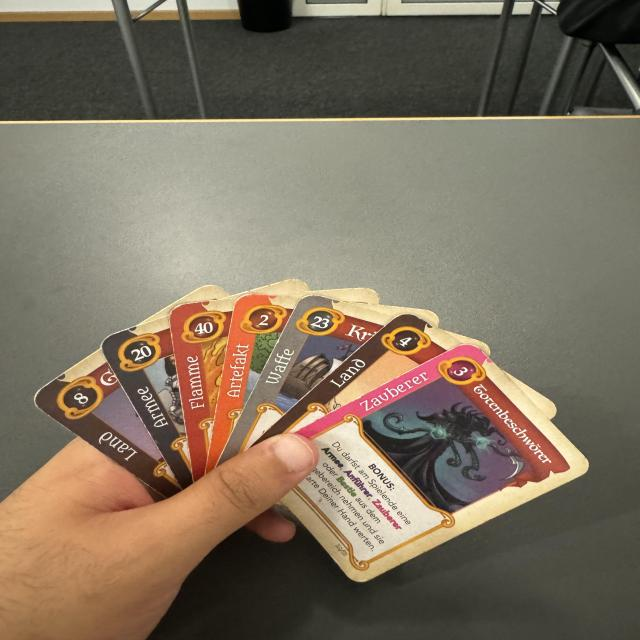Clock Tower: (28, 352, 184, 499)
Earth Elemental: (248, 310, 462, 447)
Knights: (91, 318, 194, 491)
Necromancer: (280, 341, 598, 585)
Warship: (214, 291, 395, 470)
Wildfire: (164, 297, 236, 484)
World Tree: (204, 292, 298, 475)
